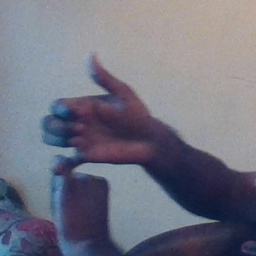S: (30, 45, 156, 222)
